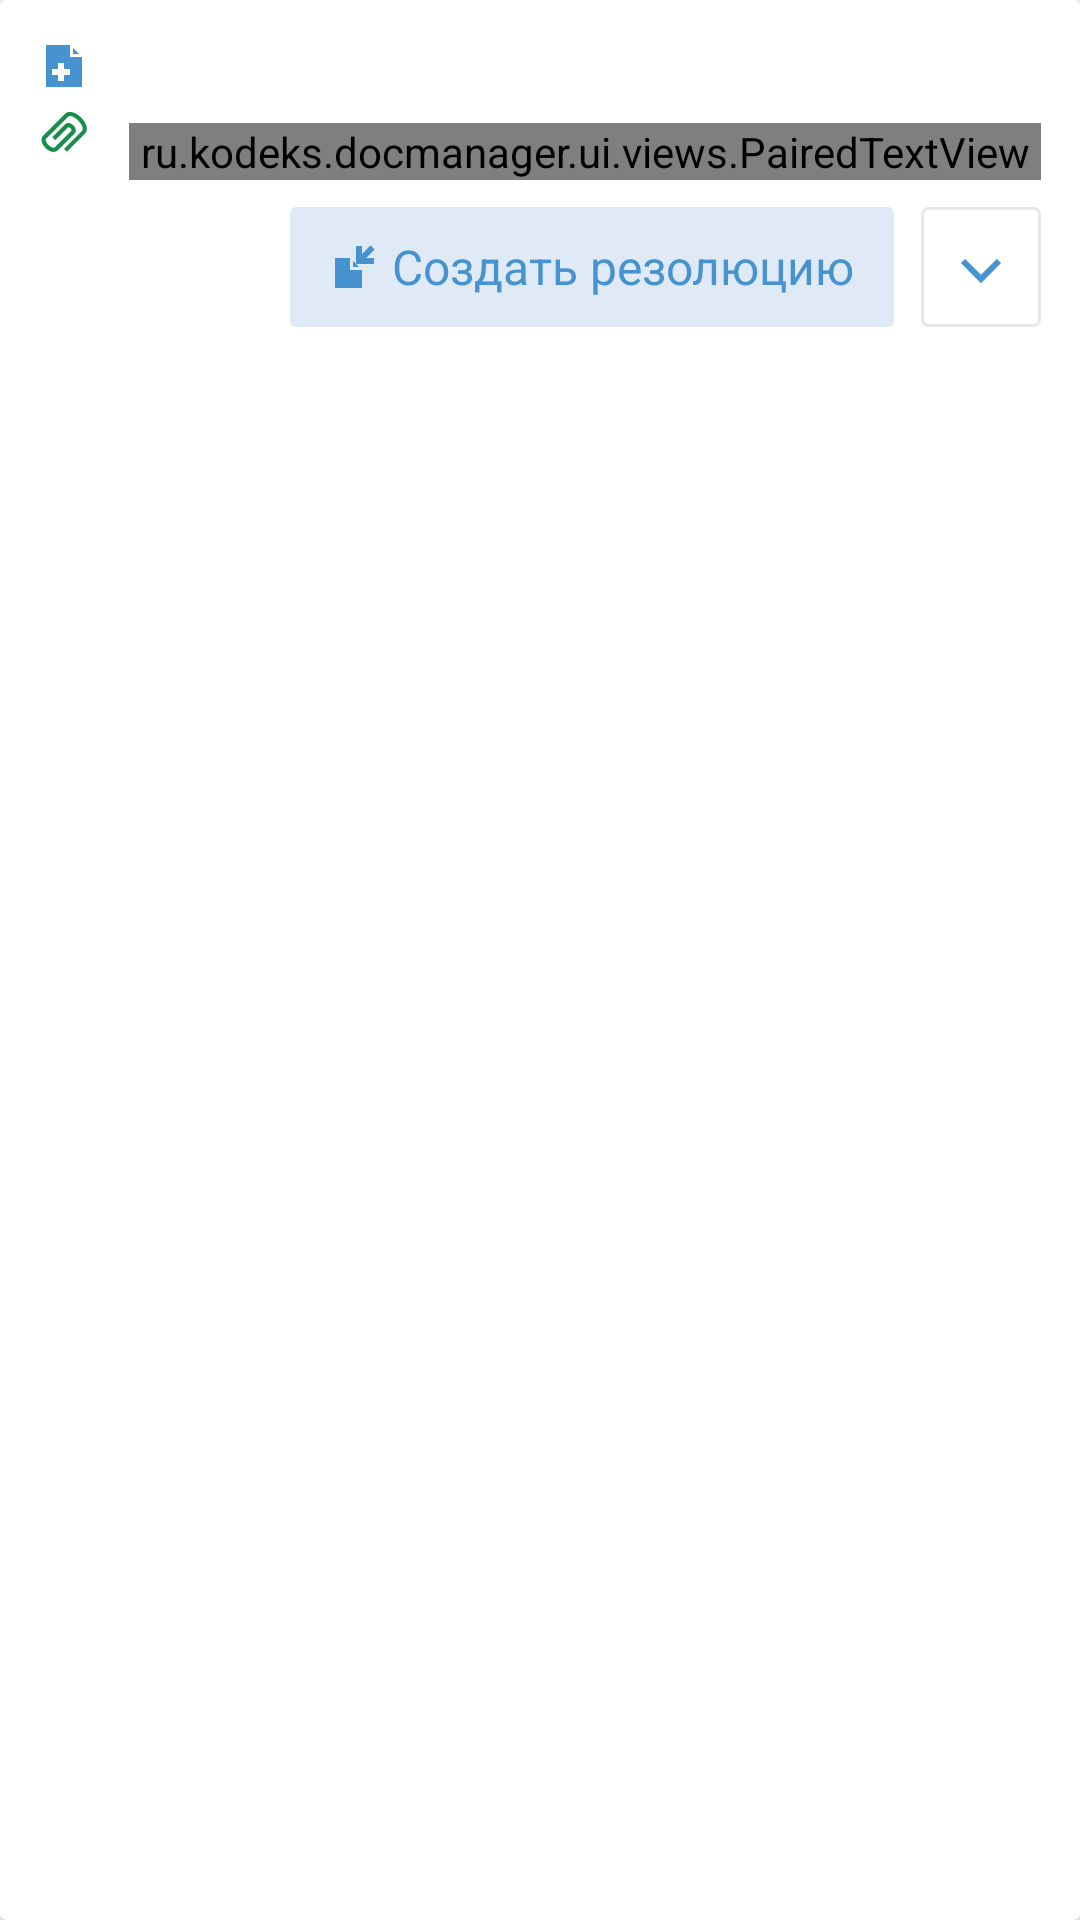

Where to tap for icons on this 1080 × 1920 app screen, as (x,y):
clip: (64,132)
sheet with plus: (64,66)
